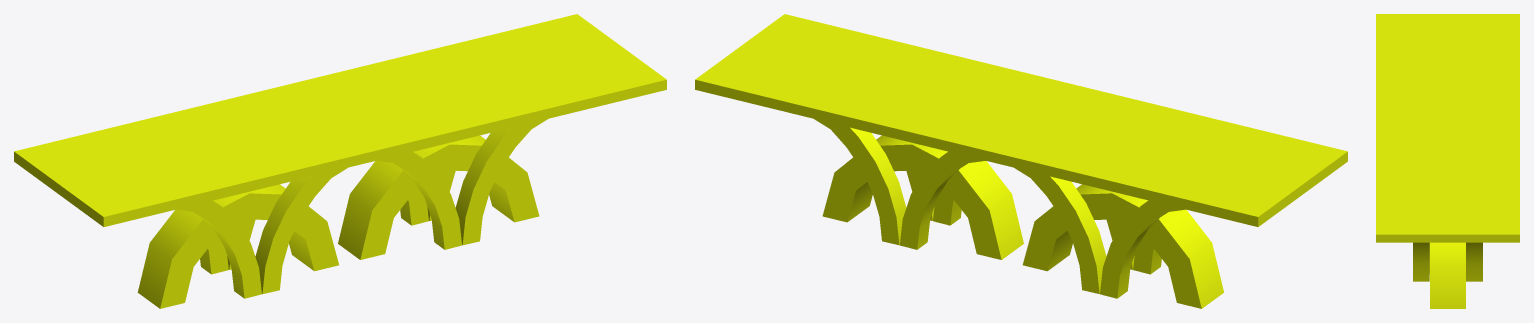
File: DiningTable2.FBX
3 views of the same model, side by side, from view 1: azimuth 30°, elevation 25°; view 2: azimuth 150°, elevation 25°; view 3: azimuth 270°, elevation 25° (orthographic). The views are drawn at different scales.
Parts seen in each view (by area): view 1: Box019; view 2: Box019; view 3: Box019.
Boxes of the visible parts, x1,y1,x2,y2 form: Box019: (14,14,666,308); Box019: (695,14,1347,308); Box019: (1376,14,1519,308).
Bounding box in the file's own units: 6.03 × 1.42 × 1.66.
